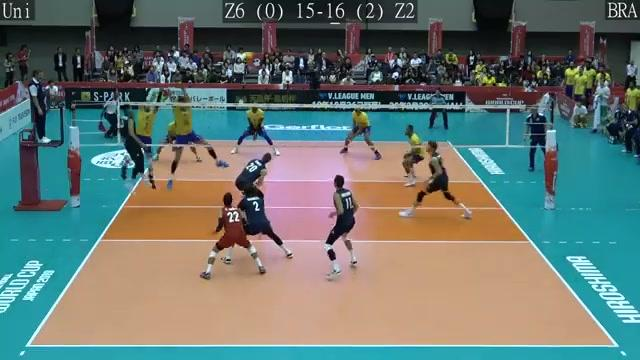ball: (240, 49, 261, 62)
